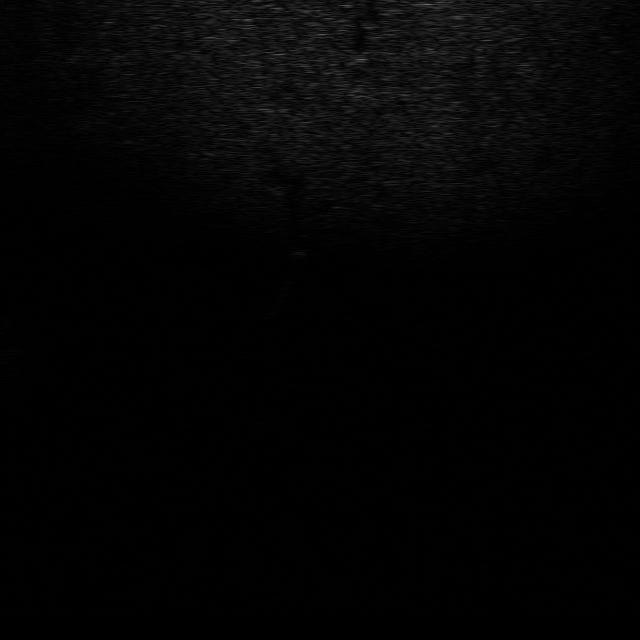human body: (259, 257, 300, 320)
